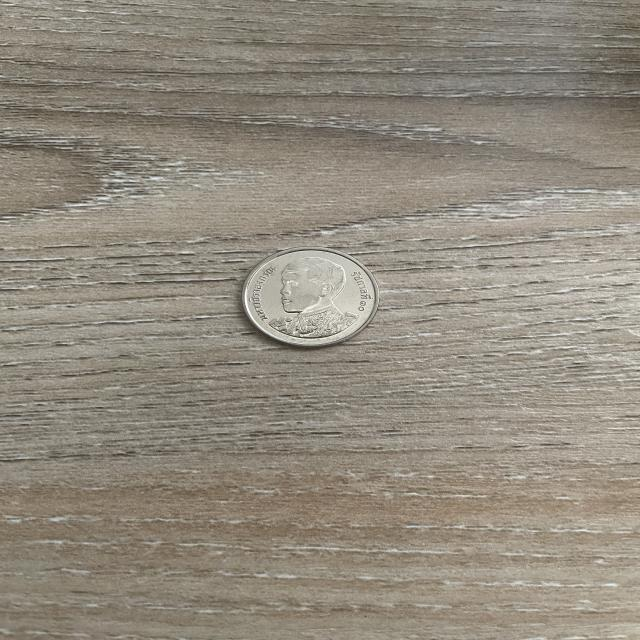1 Bath: (234, 244, 385, 357)
